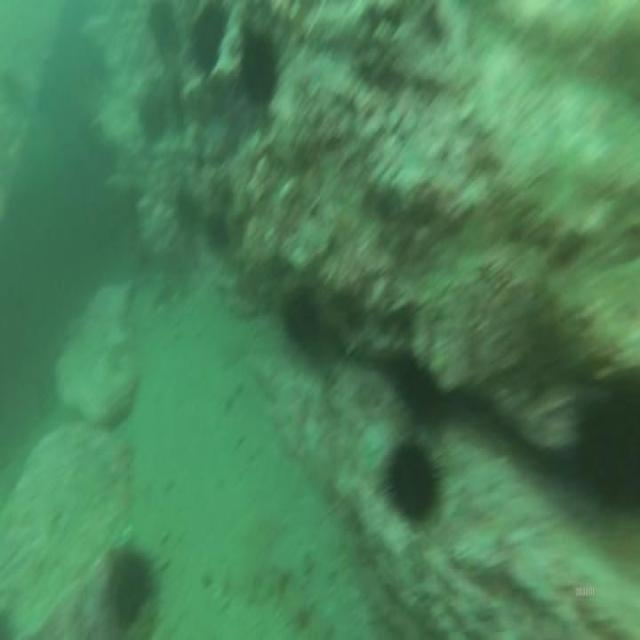echinus: (566, 355, 640, 539), (99, 522, 165, 630), (380, 430, 439, 536), (237, 19, 287, 118), (280, 275, 326, 363), (187, 5, 236, 85)
